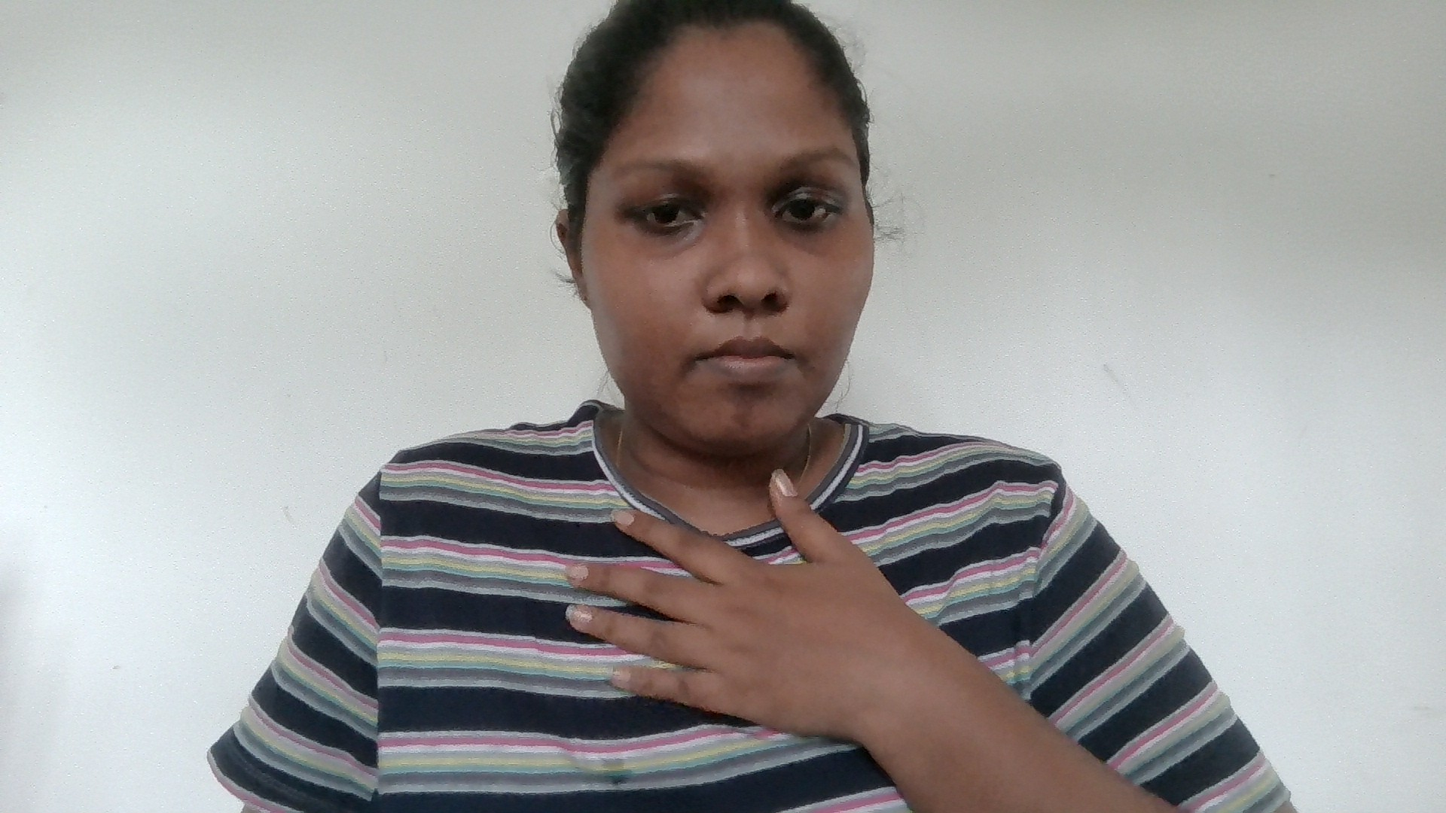Please: (488, 475, 937, 758)
